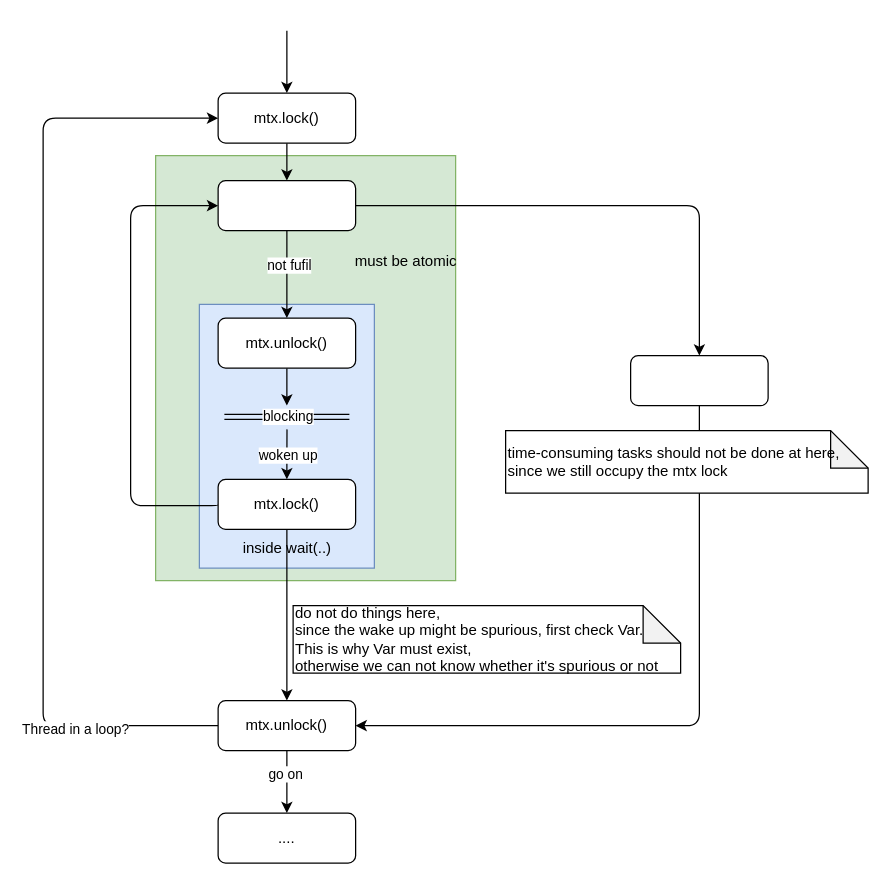
The diagram is 890 pixels wide and 885 high, and some of its shapes have lost their labels. Here are the shapes that lost their labels. From the top down, the centre of each, then its label:
the point at 286,205: check Var
the point at 698,380: do useful things
